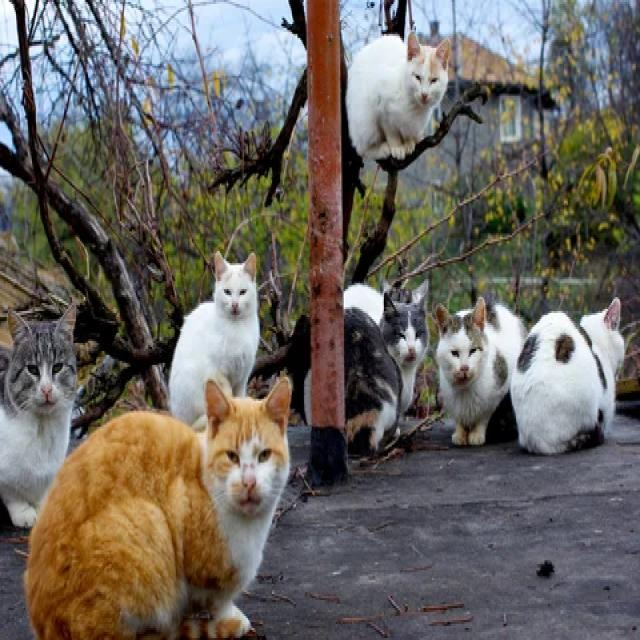cat: (25, 378, 291, 639), (510, 297, 624, 453), (0, 305, 76, 526), (170, 252, 260, 423), (436, 297, 526, 445), (346, 32, 447, 159), (344, 281, 429, 414), (344, 308, 400, 451)
